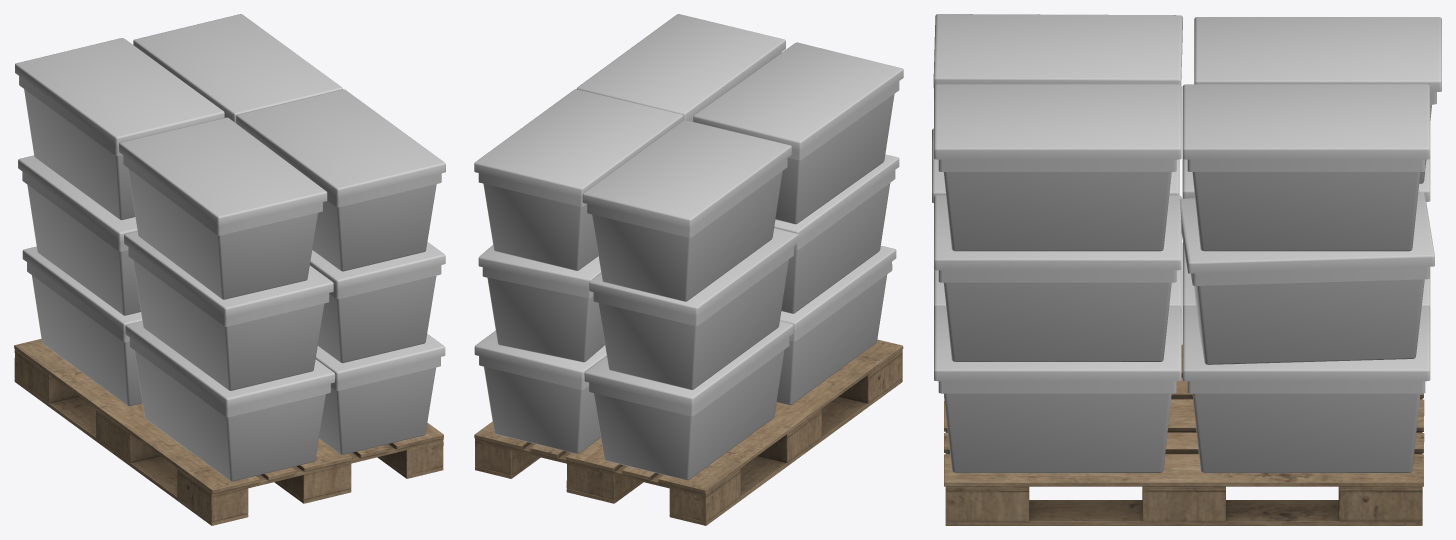
Rendered from PalletStack2.fbx.
3 views of the same model, side by side, from view 1: azimuth 30°, elevation 25°; view 2: azimuth 150°, elevation 25°; view 3: azimuth 270°, elevation 25° (orthographic). The views are drawn at different scales.
Visible parts, largest first — view 1: Case.009, Case.008, Case.011, Pallet_LOD0, Case.001, Case.005, Case.010, Case.004, Case, Case.007, Case.003; view 2: Case.011, Case.009, Case.010, Pallet_LOD0, Case.007, Case.003, Case.008, Case.006, Case.002, Case.001, Case.005; view 3: Case.010, Case.008, Case.006, Case.002, Case, Case.004, Pallet_LOD0, Case.009, Case.011, Case.005, Case.003, Case.007 (+1 smaller).
Part boxes in pixels (x1=…): Case.009: x1=119, y1=117, x2=327, y2=299; Case.008: x1=236, y1=89, x2=445, y2=271; Case.011: x1=15, y1=38, x2=224, y2=220; Pallet_LOD0: x1=14, y1=339, x2=443, y2=525; Case.001: x1=125, y1=321, x2=335, y2=481; Case.005: x1=124, y1=231, x2=333, y2=390; Case.010: x1=133, y1=14, x2=342, y2=122; Case.004: x1=310, y1=242, x2=445, y2=363; Case: x1=315, y1=333, x2=445, y2=454; Case.007: x1=18, y1=155, x2=140, y2=315; Case.003: x1=22, y1=246, x2=142, y2=406; Case.011: x1=582, y1=120, x2=791, y2=301; Case.009: x1=693, y1=42, x2=903, y2=224; Case.010: x1=474, y1=89, x2=683, y2=270; Pallet_LOD0: x1=474, y1=339, x2=903, y2=525; Case.007: x1=589, y1=228, x2=798, y2=389; Case.003: x1=584, y1=321, x2=793, y2=480; Case.008: x1=577, y1=14, x2=785, y2=121; Case.006: x1=478, y1=245, x2=604, y2=362; Case.002: x1=474, y1=330, x2=606, y2=453; Case.001: x1=777, y1=245, x2=896, y2=405; Case.005: x1=774, y1=154, x2=899, y2=313; Case.010: x1=1182, y1=84, x2=1430, y2=251; Case.008: x1=934, y1=84, x2=1181, y2=251; Case.006: x1=1179, y1=191, x2=1434, y2=364; Case.002: x1=1182, y1=306, x2=1430, y2=472; Case: x1=934, y1=306, x2=1181, y2=472; Case.004: x1=934, y1=195, x2=1181, y2=361; Pallet_LOD0: x1=944, y1=344, x2=1424, y2=525; Case.009: x1=933, y1=14, x2=1182, y2=87; Case.011: x1=1194, y1=17, x2=1441, y2=183; Case.005: x1=932, y1=128, x2=1179, y2=202; Case.003: x1=1182, y1=242, x2=1430, y2=307; Case.007: x1=1182, y1=159, x2=1430, y2=201.
Size of the model in its own units: 82.05 by 104 by 127.
